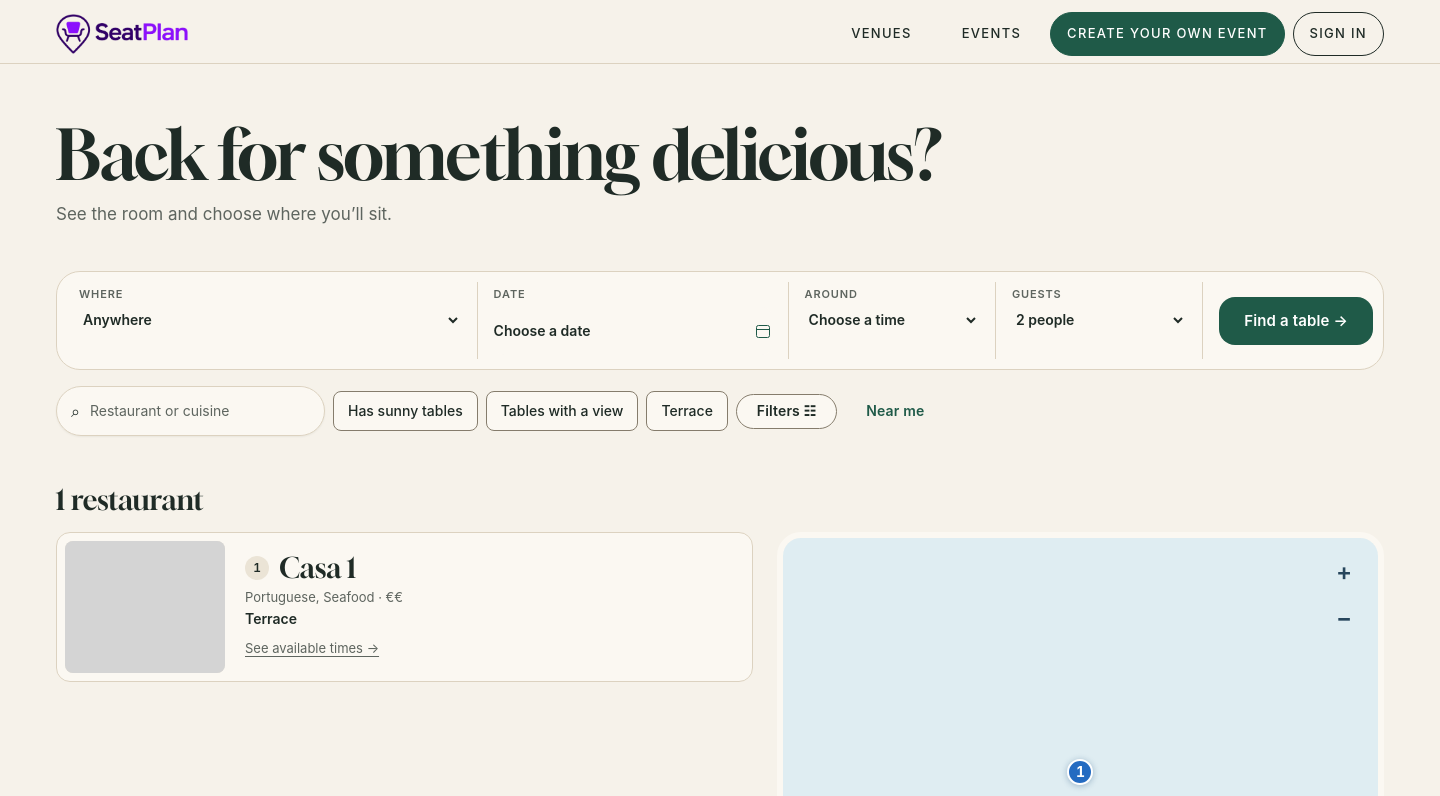
Test: DiscoverPage: the command bar › filters at once with the quick chips in the bar
The image size is (1440, 796).
Check: the heading "1 Casa 1" is shown, box [245,551,356,584]
Step 1. Click the button "Has sunny tables" → (405, 411), box [333,391,478,431]
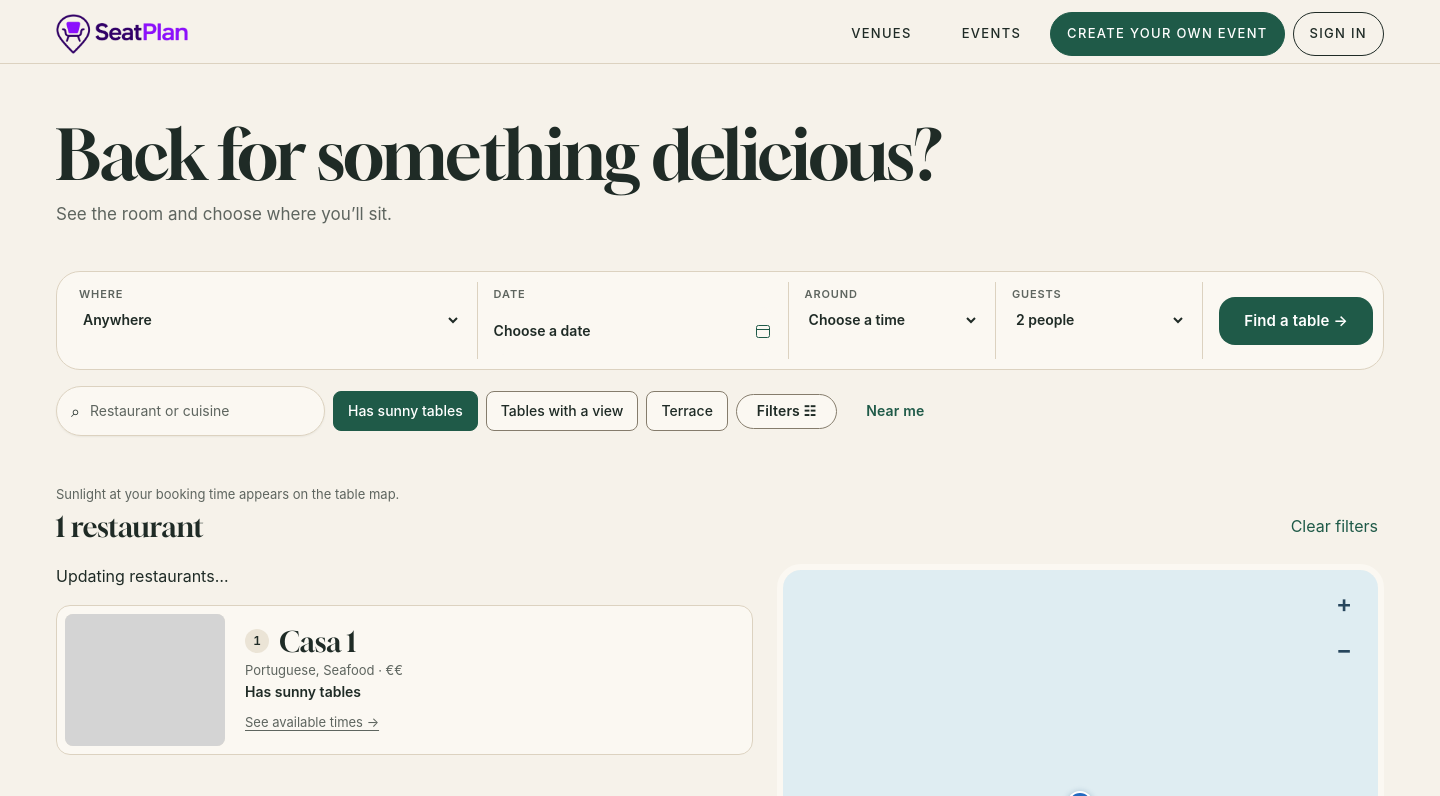
Step 2. Click the button "Terrace" → (687, 411), box [646,391,728,431]
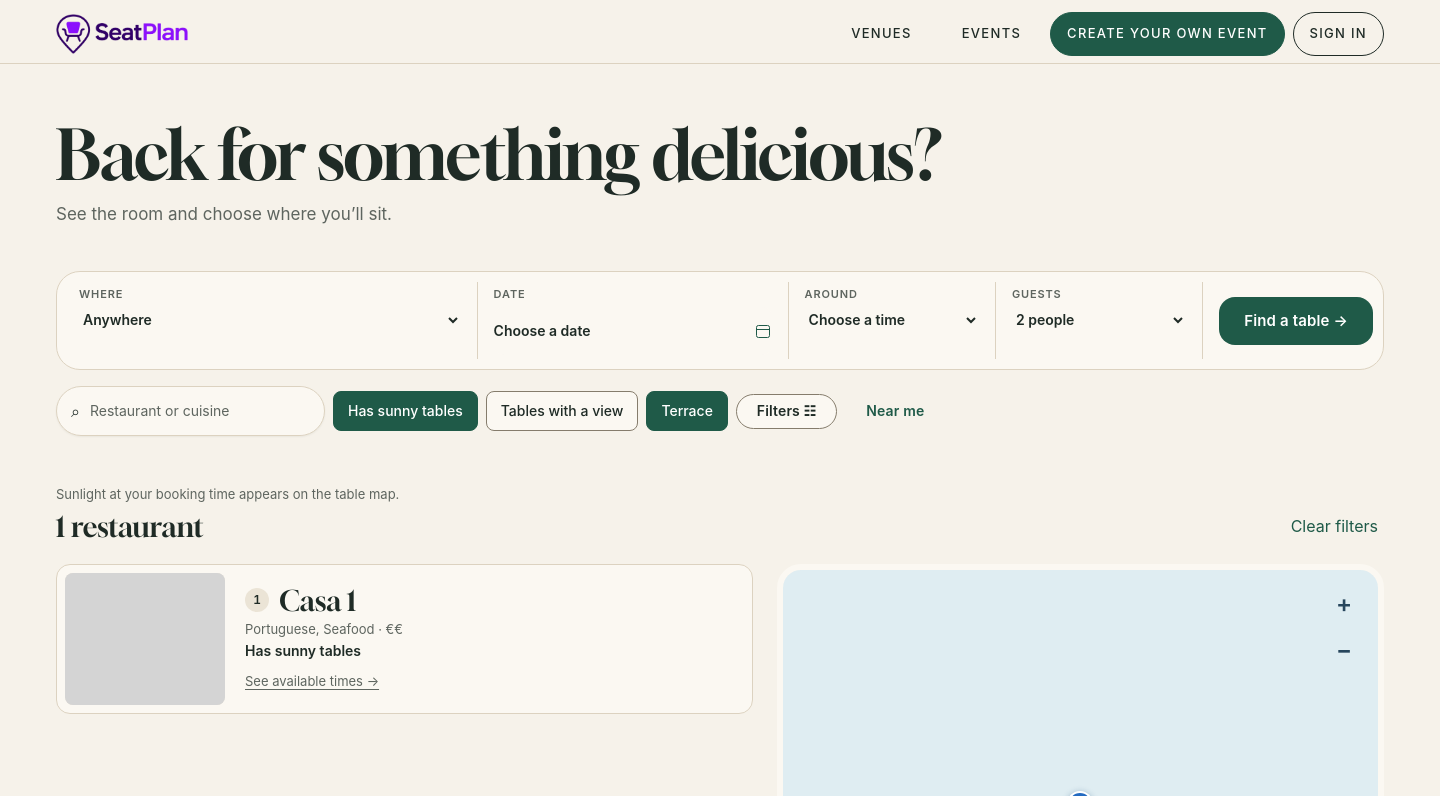
Check: the button "Filters ☷" is shown, box [736,394,837,429]
Check: the button "Terrace" is pressed, box [646,391,728,431]
